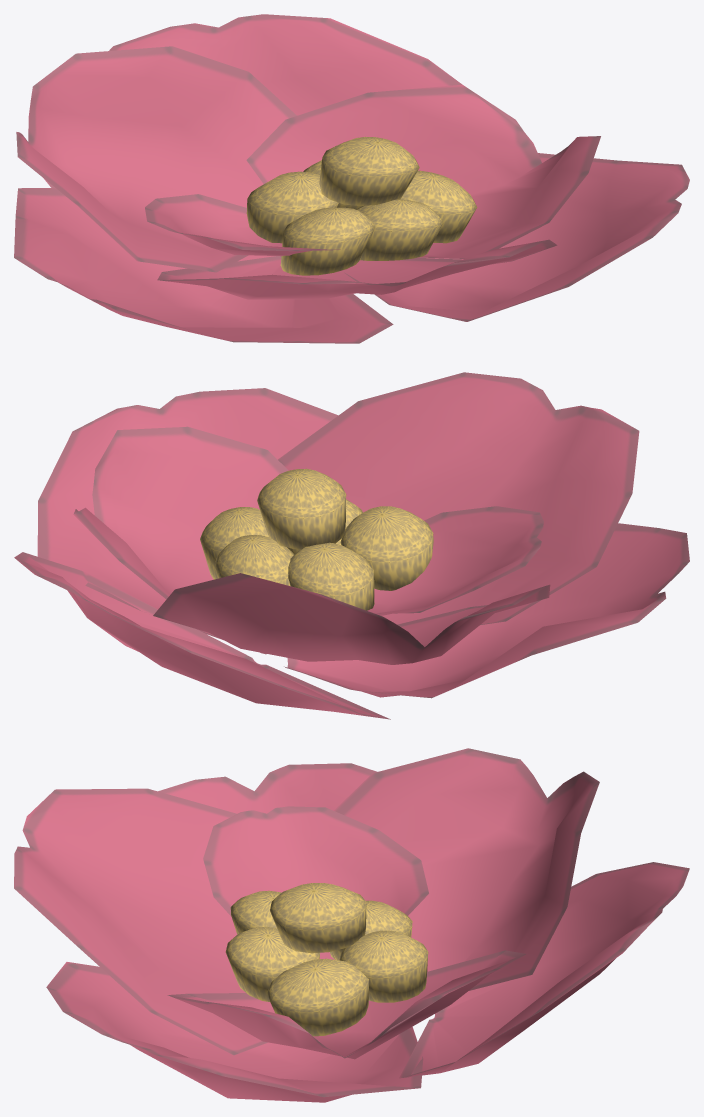
File: Sarasa_Acce_003_ex.fbx
The picture shows the model from 3 angles, top to bottom: view 1: azimuth 30°, elevation 25°; view 2: azimuth 150°, elevation 25°; view 3: azimuth 270°, elevation 25°; orthographic projection. The views are drawn at different scales.
Visible parts, largest first — view 1: Cylinder.002; view 2: Cylinder.002; view 3: Cylinder.002.
Boxes of the visible parts, box(x1,y1,x2,y2) form: Cylinder.002: box(14, 14, 689, 343); Cylinder.002: box(14, 372, 689, 719); Cylinder.002: box(14, 748, 689, 1102).
Bounding box in the file's own units: 8.72 × 2.48 × 8.2.
Materials: 1 (1 with a texture image).
